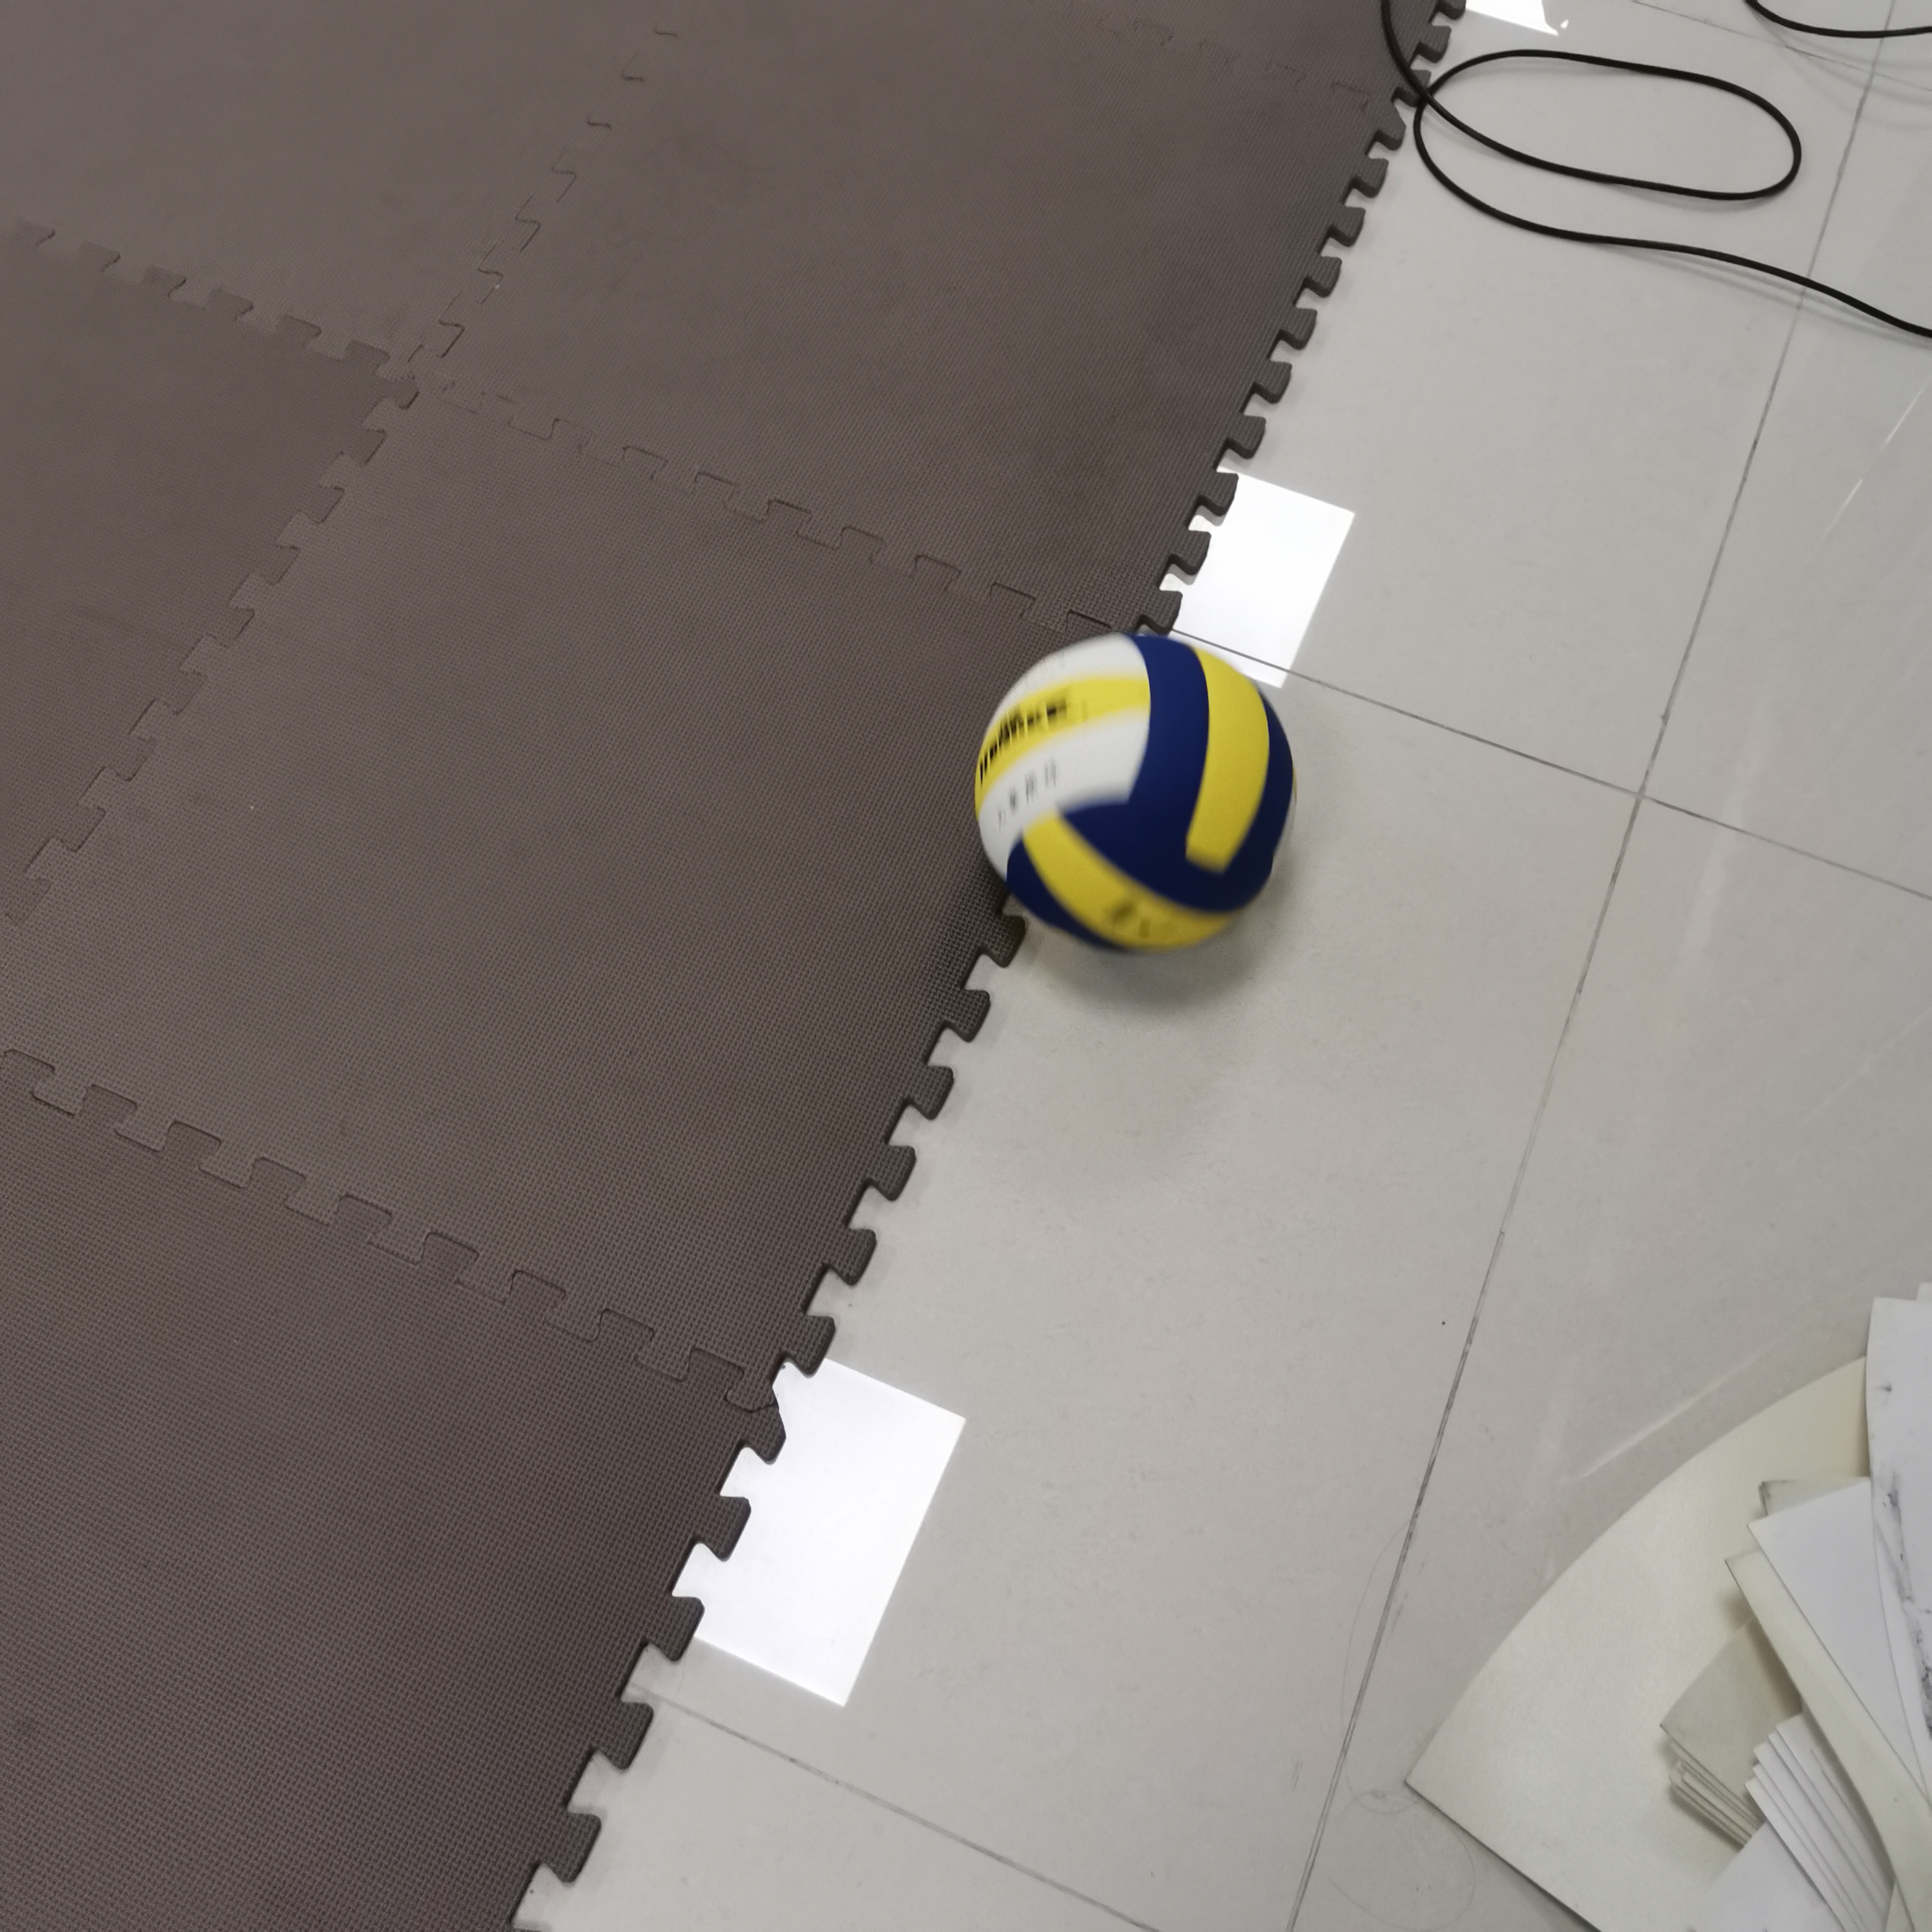volleyball: (975, 628, 1288, 952)
